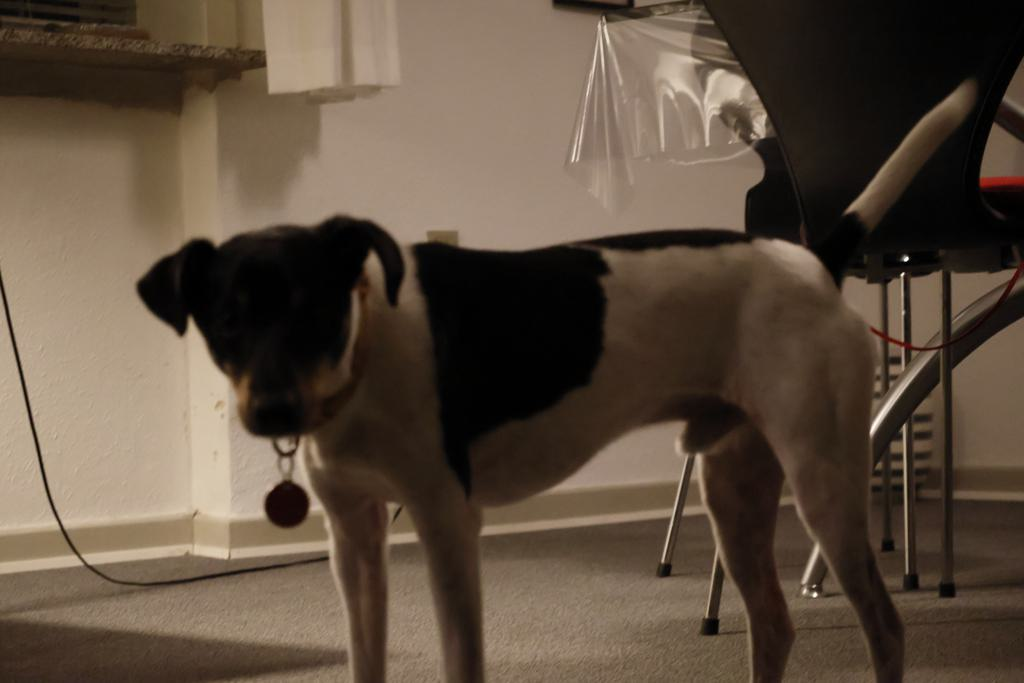Dog: (125, 68, 986, 683)
